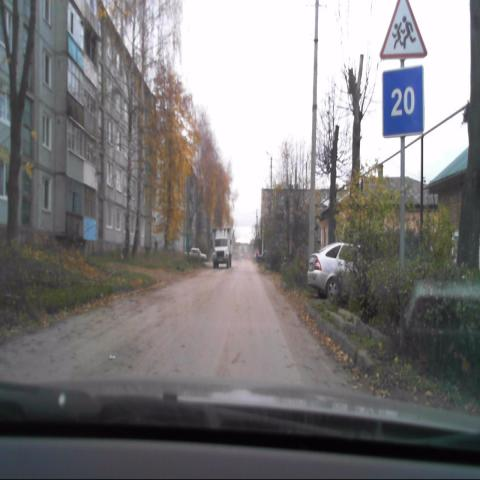1_23: (379, 0, 426, 59)
6_2: (382, 68, 426, 138)
